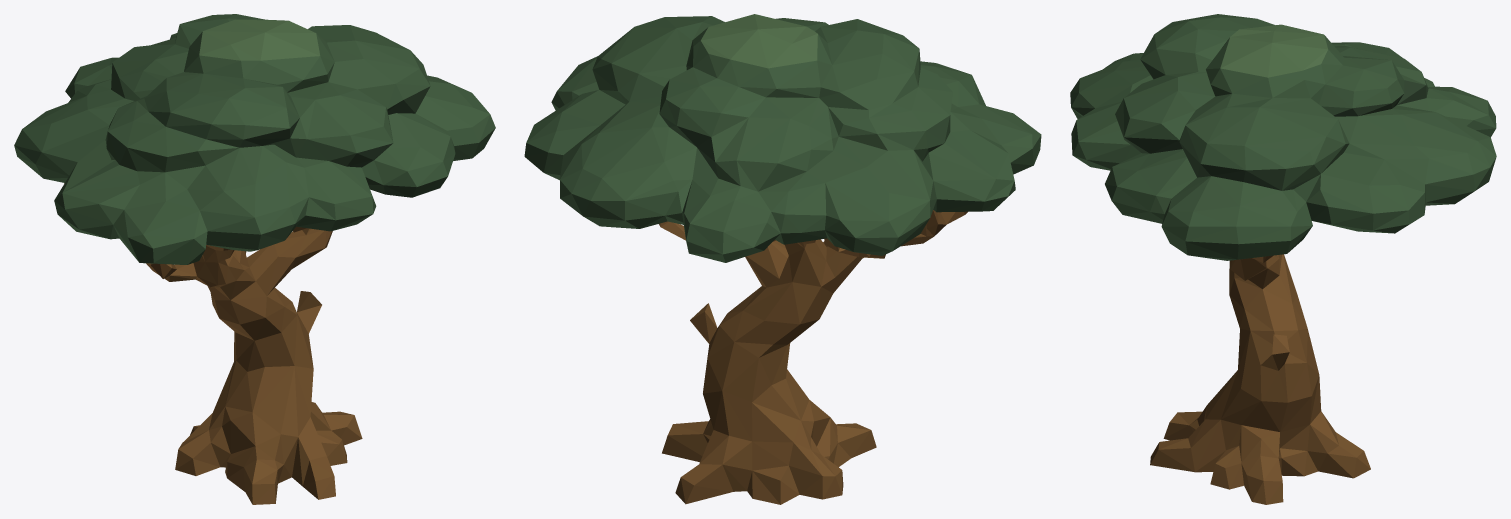
File: prop_stone_pine_pre_chunk.glb
The picture shows the model from 3 angles, left to right: view 1: azimuth 30°, elevation 25°; view 2: azimuth 150°, elevation 25°; view 3: azimuth 270°, elevation 25°; orthographic projection. The views are drawn at different scales.
Parts seen in each view (by area): view 1: LeafCanopy, Trunk; view 2: LeafCanopy, Trunk; view 3: LeafCanopy, Trunk.
Boxes of the visible parts, x1,y1,x2,y2 form: LeafCanopy: (14,14,495,264); Trunk: (64,183,362,504); LeafCanopy: (524,14,1041,262); Trunk: (659,210,967,504); LeafCanopy: (1070,14,1496,260); Trunk: (1150,254,1370,504).
Size of the model in its own units: 1 by 0.9638 by 0.8914.
